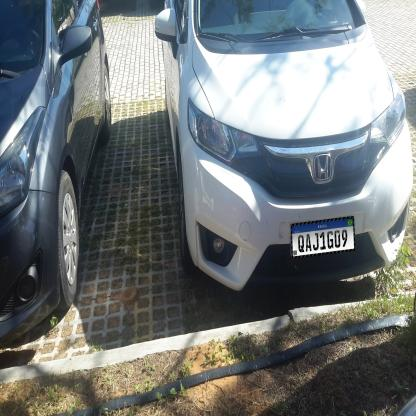PlacaM: (291, 216, 355, 259)
